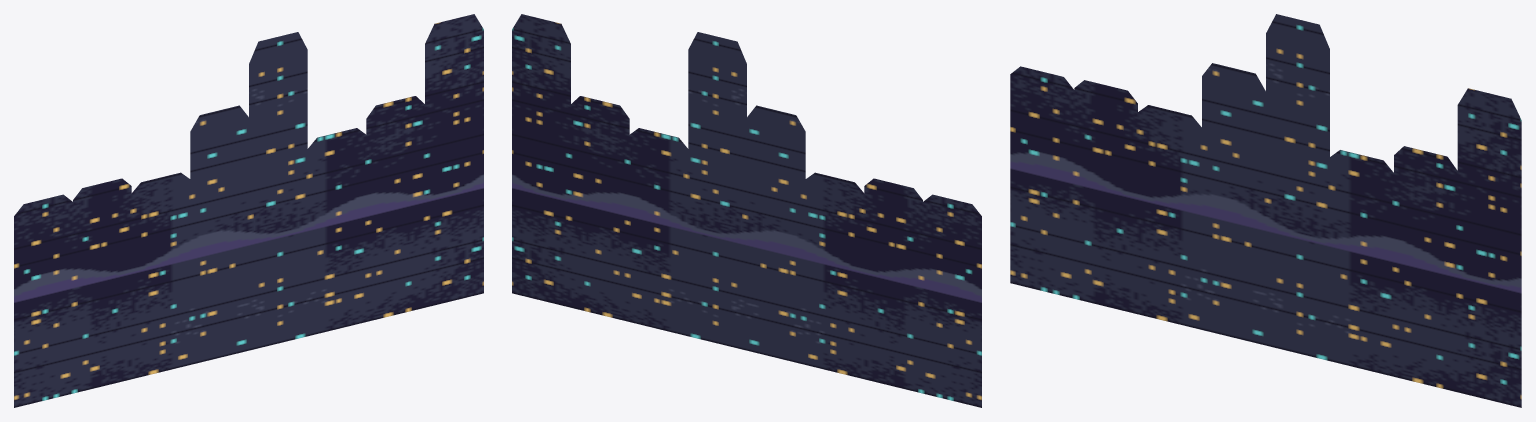
The model's file is cysky.near.glb.
3 views of the same model, side by side, from view 1: azimuth 30°, elevation 25°; view 2: azimuth 150°, elevation 25°; view 3: azimuth 330°, elevation 25° (orthographic). The views are drawn at different scales.
Parts seen in each view (by area): view 1: kit_card_skyline; view 2: kit_card_skyline; view 3: kit_card_skyline.
Part boxes in pixels (bbox=[...]): kit_card_skyline: bbox=[14, 14, 483, 407]; kit_card_skyline: bbox=[512, 14, 981, 407]; kit_card_skyline: bbox=[1010, 14, 1521, 407].
Bounding box in the file's own units: 56 × 34.96 × 0.
Materials: 1 (1 with a texture image).
